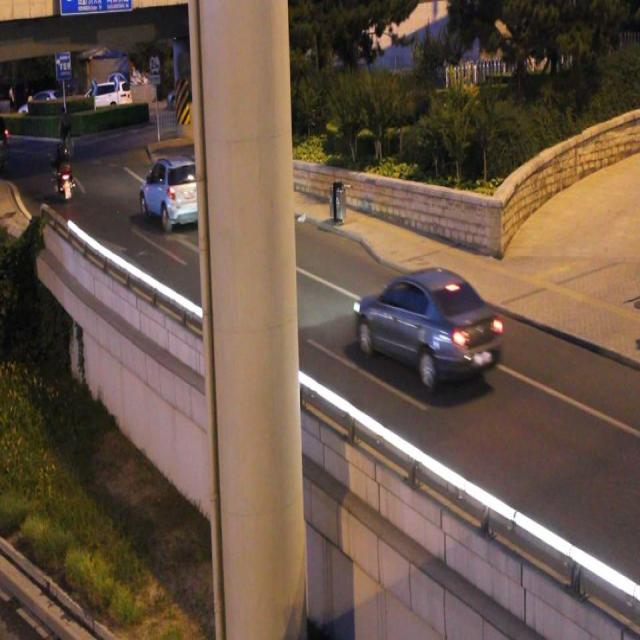car: (357, 270, 501, 380), (142, 156, 205, 226)
